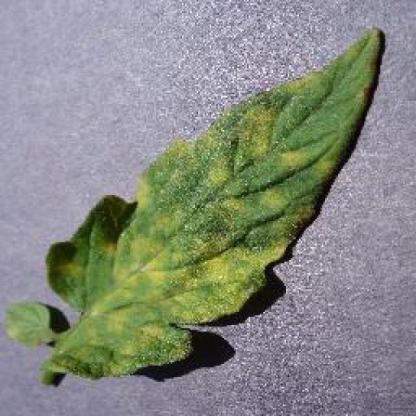Tomato_Leaf_Mold: (47, 27, 384, 375)
